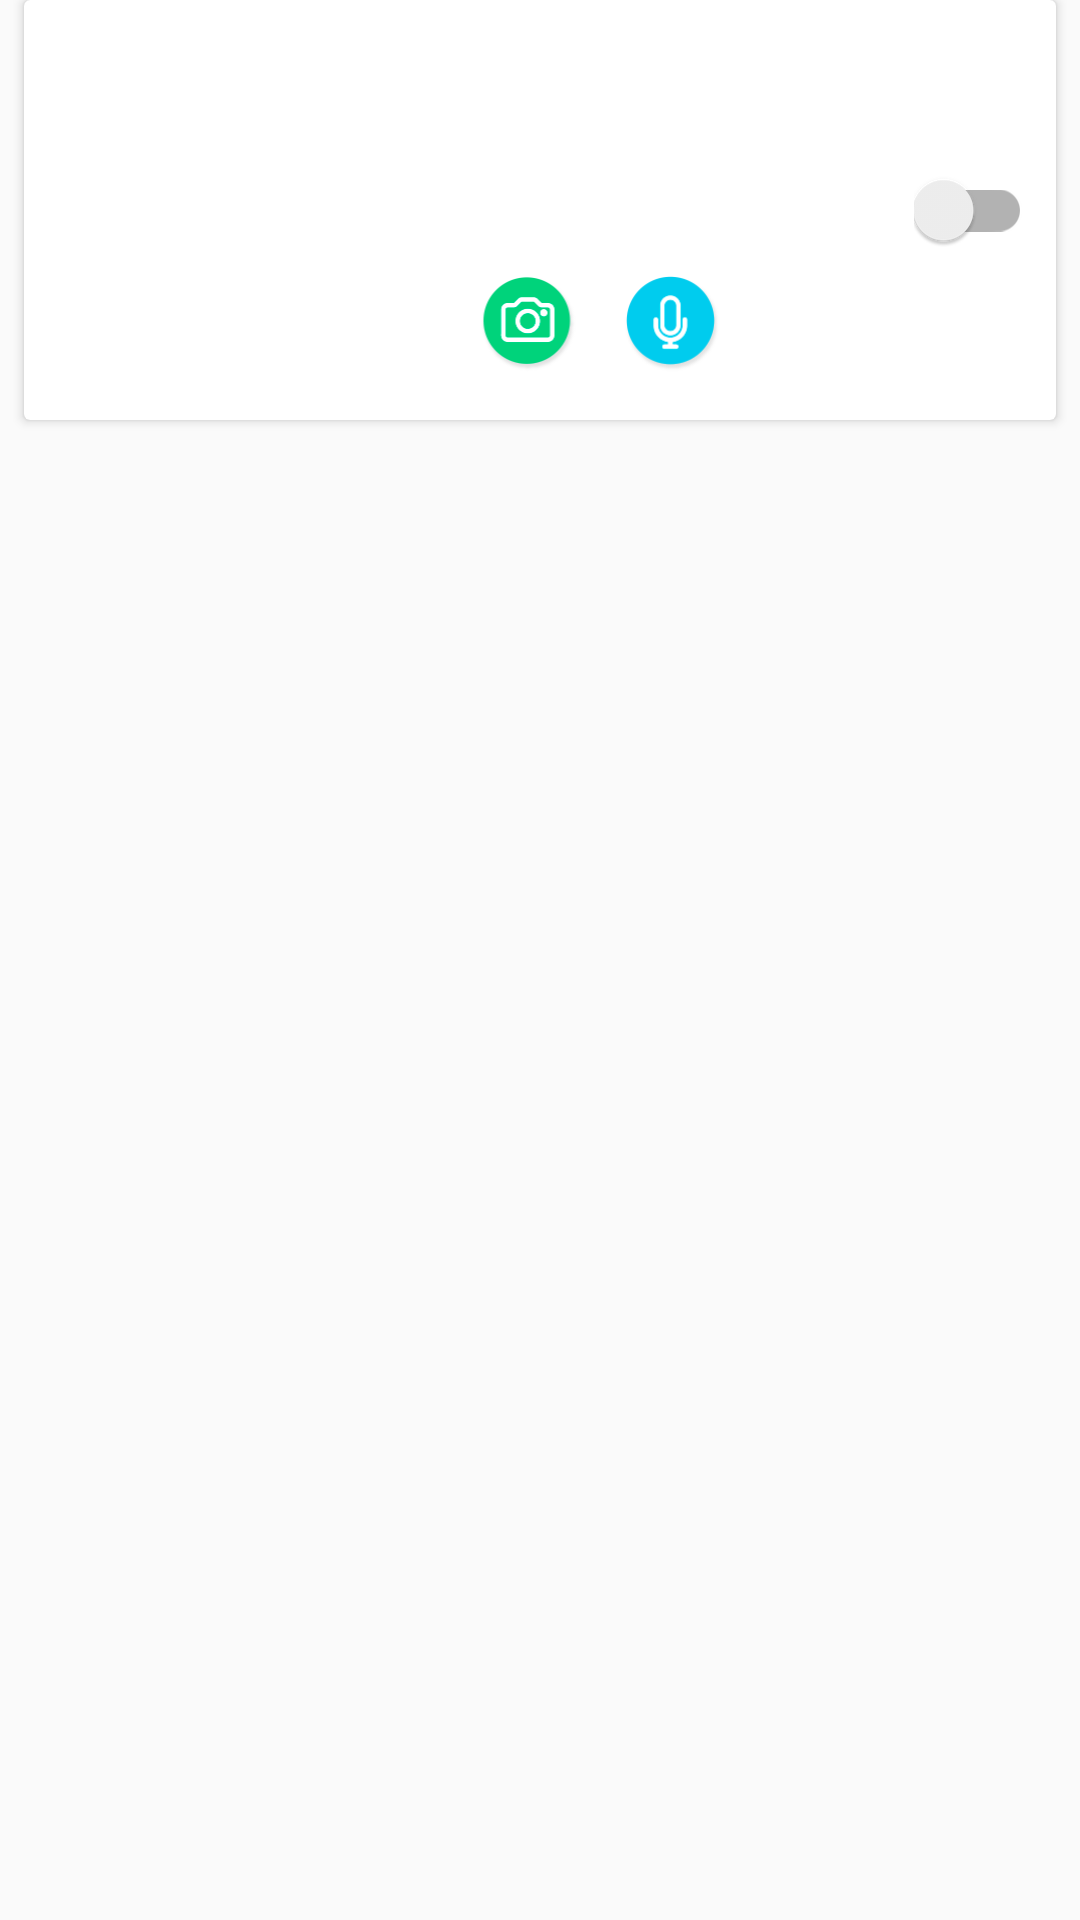

Screen size 1080 x 1920. Icon name, then its center in pixels as (x,y):
images camera: (527,321)
images record: (670,321)
